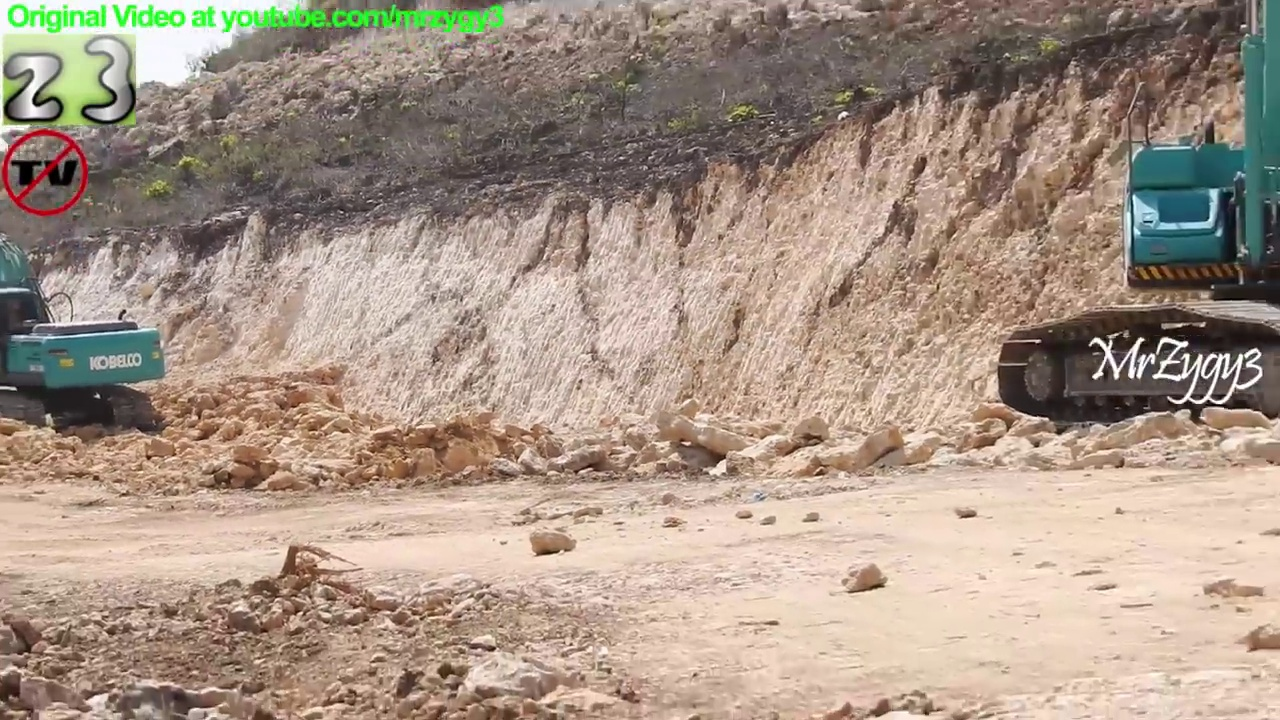excavator: (992, 1, 1280, 433), (1, 226, 177, 440)
